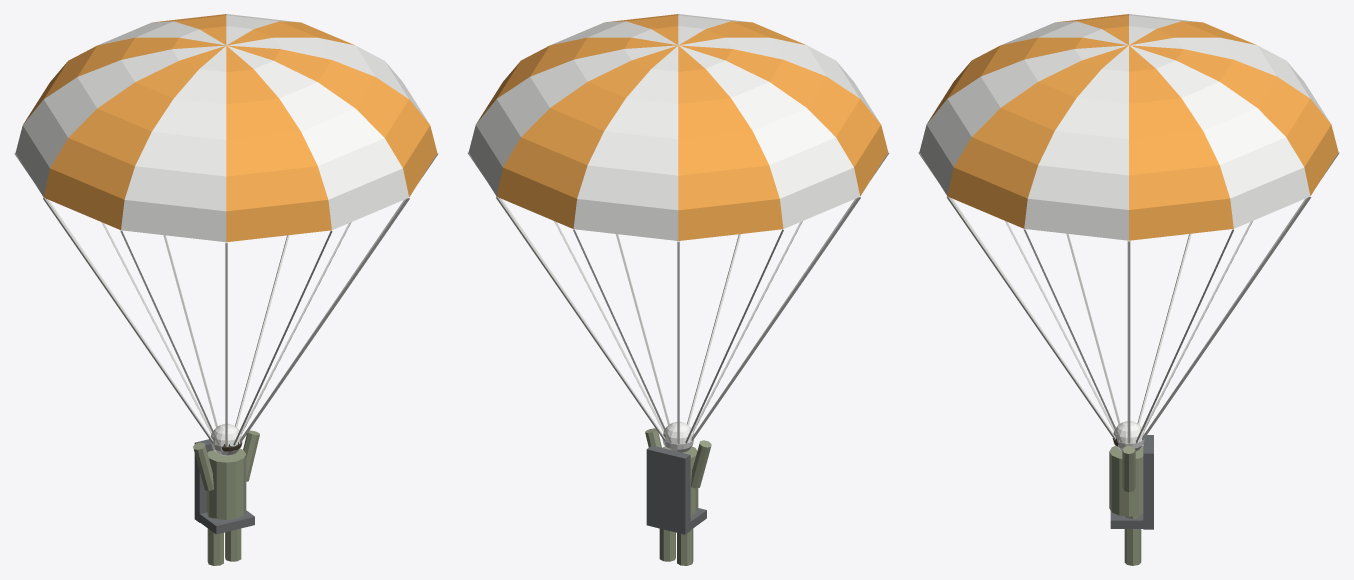
Rendered from FX_Parachute.fbx.
3 renders of one model, left to right at view 1: azimuth 30°, elevation 25°; view 2: azimuth 150°, elevation 25°; view 3: azimuth 270°, elevation 25°, orthographic.
Parts seen in each view (by area): view 1: Canopy.011, CanopyAlt, Lines, Pilot, Seat, Helmet.001; view 2: Canopy.011, CanopyAlt, Lines, Seat, Pilot, Helmet.001; view 3: Canopy.011, CanopyAlt, Lines, Pilot, Seat, Helmet.001.
Part boxes in pixels (x1,y1,x2,y2): Canopy.011: [23, 14, 437, 242]; CanopyAlt: [15, 14, 429, 241]; Lines: [14, 153, 438, 446]; Pilot: [193, 430, 259, 565]; Seat: [194, 439, 254, 534]; Helmet.001: [211, 423, 242, 456]; Canopy.011: [477, 14, 888, 240]; CanopyAlt: [468, 14, 879, 240]; Lines: [467, 152, 889, 444]; Seat: [646, 445, 706, 534]; Pilot: [645, 428, 711, 565]; Helmet.001: [662, 421, 693, 452]; Canopy.011: [927, 14, 1338, 240]; CanopyAlt: [919, 14, 1330, 240]; Lines: [918, 152, 1339, 443]; Pilot: [1109, 446, 1143, 565]; Seat: [1110, 435, 1153, 529]; Helmet.001: [1113, 421, 1144, 451].
Bounding box in the file's own units: 16.08 × 21.6 × 16.08.
